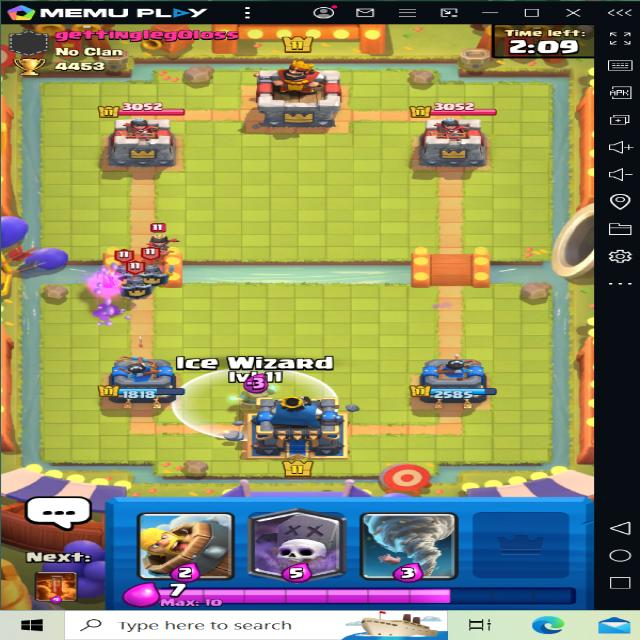guards: (132, 248, 178, 286), (119, 264, 158, 300), (104, 255, 145, 288)
princess: (136, 222, 182, 256)
